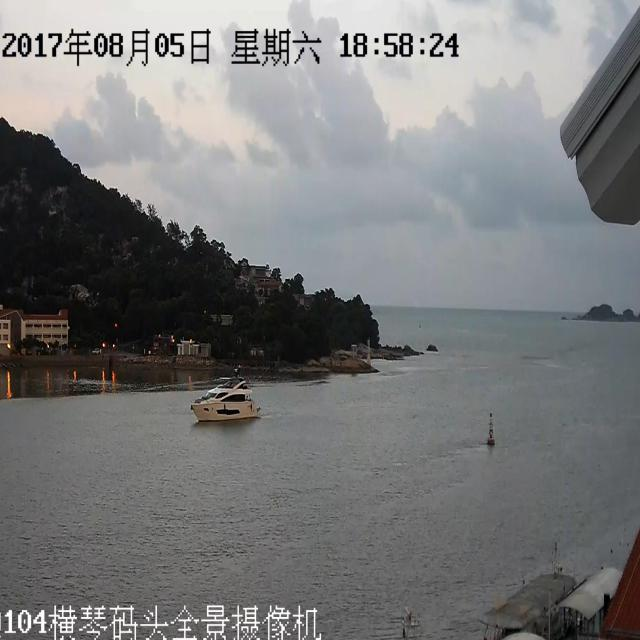buoy: (472, 397, 501, 458)
passenger ship: (185, 367, 257, 437)
reef: (572, 280, 640, 330)
